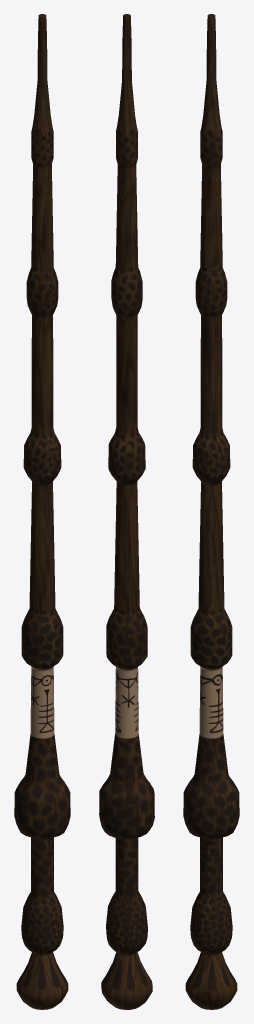
The model's file is wand.glb.
3 views of the same model, side by side, from view 1: azimuth 90°, elevation 25°; view 2: azimuth 150°, elevation 25°; view 3: azimuth 270°, elevation 25° (orthographic).
Visible parts, largest first — view 1: pCube1; view 2: pCube1; view 3: pCube1.
Part boxes in pixels (x1=…): pCube1: x1=14, y1=14, x2=70, y2=1009; pCube1: x1=99, y1=14, x2=154, y2=1009; pCube1: x1=183, y1=14, x2=239, y2=1009.
Size of the model in its own units: 0.00489 by 0.095 by 0.00489.
Materials: 1 (1 with a texture image).
